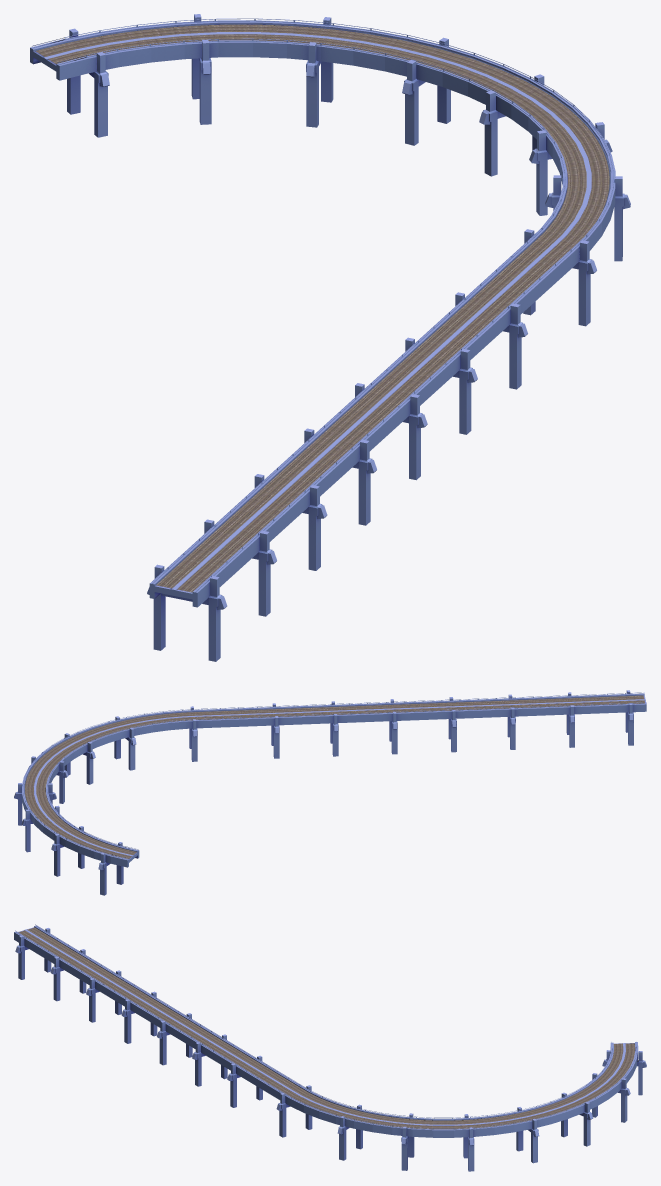
Rendered from Bridge.gltf.
3 views of the same model, one above another, from view 1: azimuth 30°, elevation 25°; view 2: azimuth 150°, elevation 25°; view 3: azimuth 270°, elevation 25° (orthographic). The views are drawn at different scales.
Visible parts, largest first — view 1: Bridge; view 2: Bridge; view 3: Bridge.
Boxes of the visible parts, box(x1,y1,x2,y2) form: Bridge: box(30, 14, 630, 661); Bridge: box(14, 690, 646, 895); Bridge: box(14, 924, 646, 1171).
Bounding box in the file's own units: 11.43 × 1.09 × 14.73.
1 material, 1 textured.
